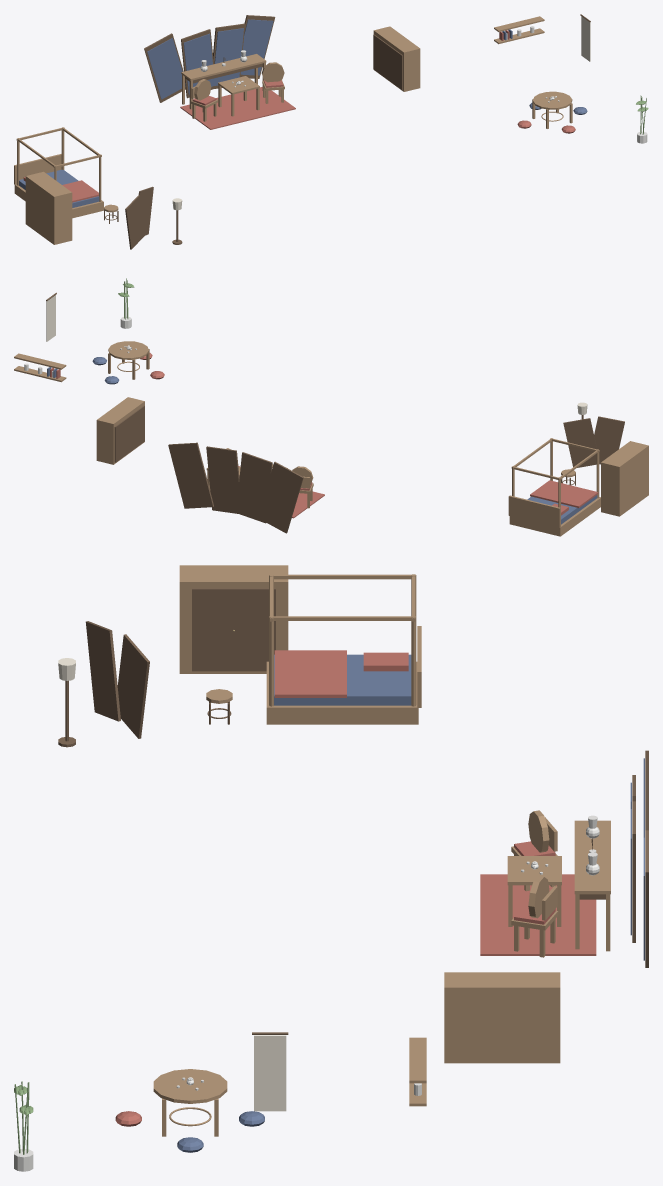
Rendered from interior.glb.
3 views of the same model, one above another, from view 1: azimuth 30°, elevation 25°; view 2: azimuth 150°, elevation 25°; view 3: azimuth 270°, elevation 25° (orthographic). The views are drawn at different scales.
Parts seen in each view (by area): view 1: Furn_Wardrobe, Furn_Mat, Furn_Screen0p, Furn_Cabinet, Furn_CabinetDoor, Furn_Screen3p, Furn_Screen2p, Furn_Screen1p, Furn_AltarTable_top, Furn_BedScreen1, Furn_BedHeadboard, Furn_TeaTableTop (+9 smaller); view 2: Furn_Wardrobe, Furn_Screen3f, Furn_Screen0f, Furn_Screen2f, Furn_Screen1f, Furn_Cabinet, Furn_BedScreen0, Furn_CabinetDoor, Furn_BedHeadboard, Furn_BedBlanket, Furn_BedScreen1, Furn_BedBase (+3 smaller); view 3: Furn_Cabinet, Furn_Mat, Furn_Wardrobe, Furn_WardDoorL, Furn_BedBlanket, Furn_BedBase, Furn_BedMattress, Furn_WardDoorR, Furn_Scroll, Furn_BedScreen1, Furn_AltarTable_top, Furn_BedScreen0 (+4 smaller).
Part boxes in pixels (x1,y1,x2,y2): Furn_Wardrobe: [25, 171, 72, 244]; Furn_Mat: [180, 87, 295, 129]; Furn_Screen0p: [147, 38, 185, 99]; Furn_Cabinet: [373, 26, 420, 91]; Furn_CabinetDoor: [373, 34, 402, 89]; Furn_Screen3p: [240, 19, 273, 75]; Furn_Screen2p: [213, 28, 243, 85]; Furn_Screen1p: [183, 33, 214, 94]; Furn_AltarTable_top: [181, 54, 266, 80]; Furn_BedScreen1: [125, 195, 144, 249]; Furn_BedHeadboard: [14, 154, 61, 184]; Furn_TeaTableTop: [533, 91, 572, 109]; Furn_Wardrobe: [601, 441, 648, 516]; Furn_Screen3f: [168, 442, 213, 508]; Furn_Screen0f: [258, 461, 303, 533]; Furn_Screen2f: [206, 446, 241, 513]; Furn_Screen1f: [236, 452, 272, 523]; Furn_Cabinet: [96, 397, 144, 464]; Furn_BedScreen0: [563, 418, 600, 467]; Furn_CabinetDoor: [114, 405, 144, 462]; Furn_BedHeadboard: [508, 495, 560, 527]; Furn_BedBlanket: [530, 480, 598, 508]; Furn_BedScreen1: [594, 416, 624, 464]; Furn_BedBase: [509, 497, 600, 536]; Furn_Cabinet: [444, 972, 560, 1063]; Furn_Mat: [480, 874, 596, 955]; Furn_Wardrobe: [179, 565, 288, 673]; Furn_WardDoorL: [192, 588, 236, 671]; Furn_BedBlanket: [274, 650, 346, 697]; Furn_BedBase: [266, 661, 418, 724]; Furn_BedMattress: [274, 654, 411, 705]; Furn_WardDoorR: [231, 588, 275, 671]; Furn_Scroll: [254, 1035, 286, 1111]; Furn_BedScreen1: [85, 621, 120, 721]; Furn_AltarTable_top: [574, 820, 610, 894]; Furn_BedScreen0: [117, 634, 149, 738].
Size of the model in its own units: 16.92 by 2.26 by 8.76.
